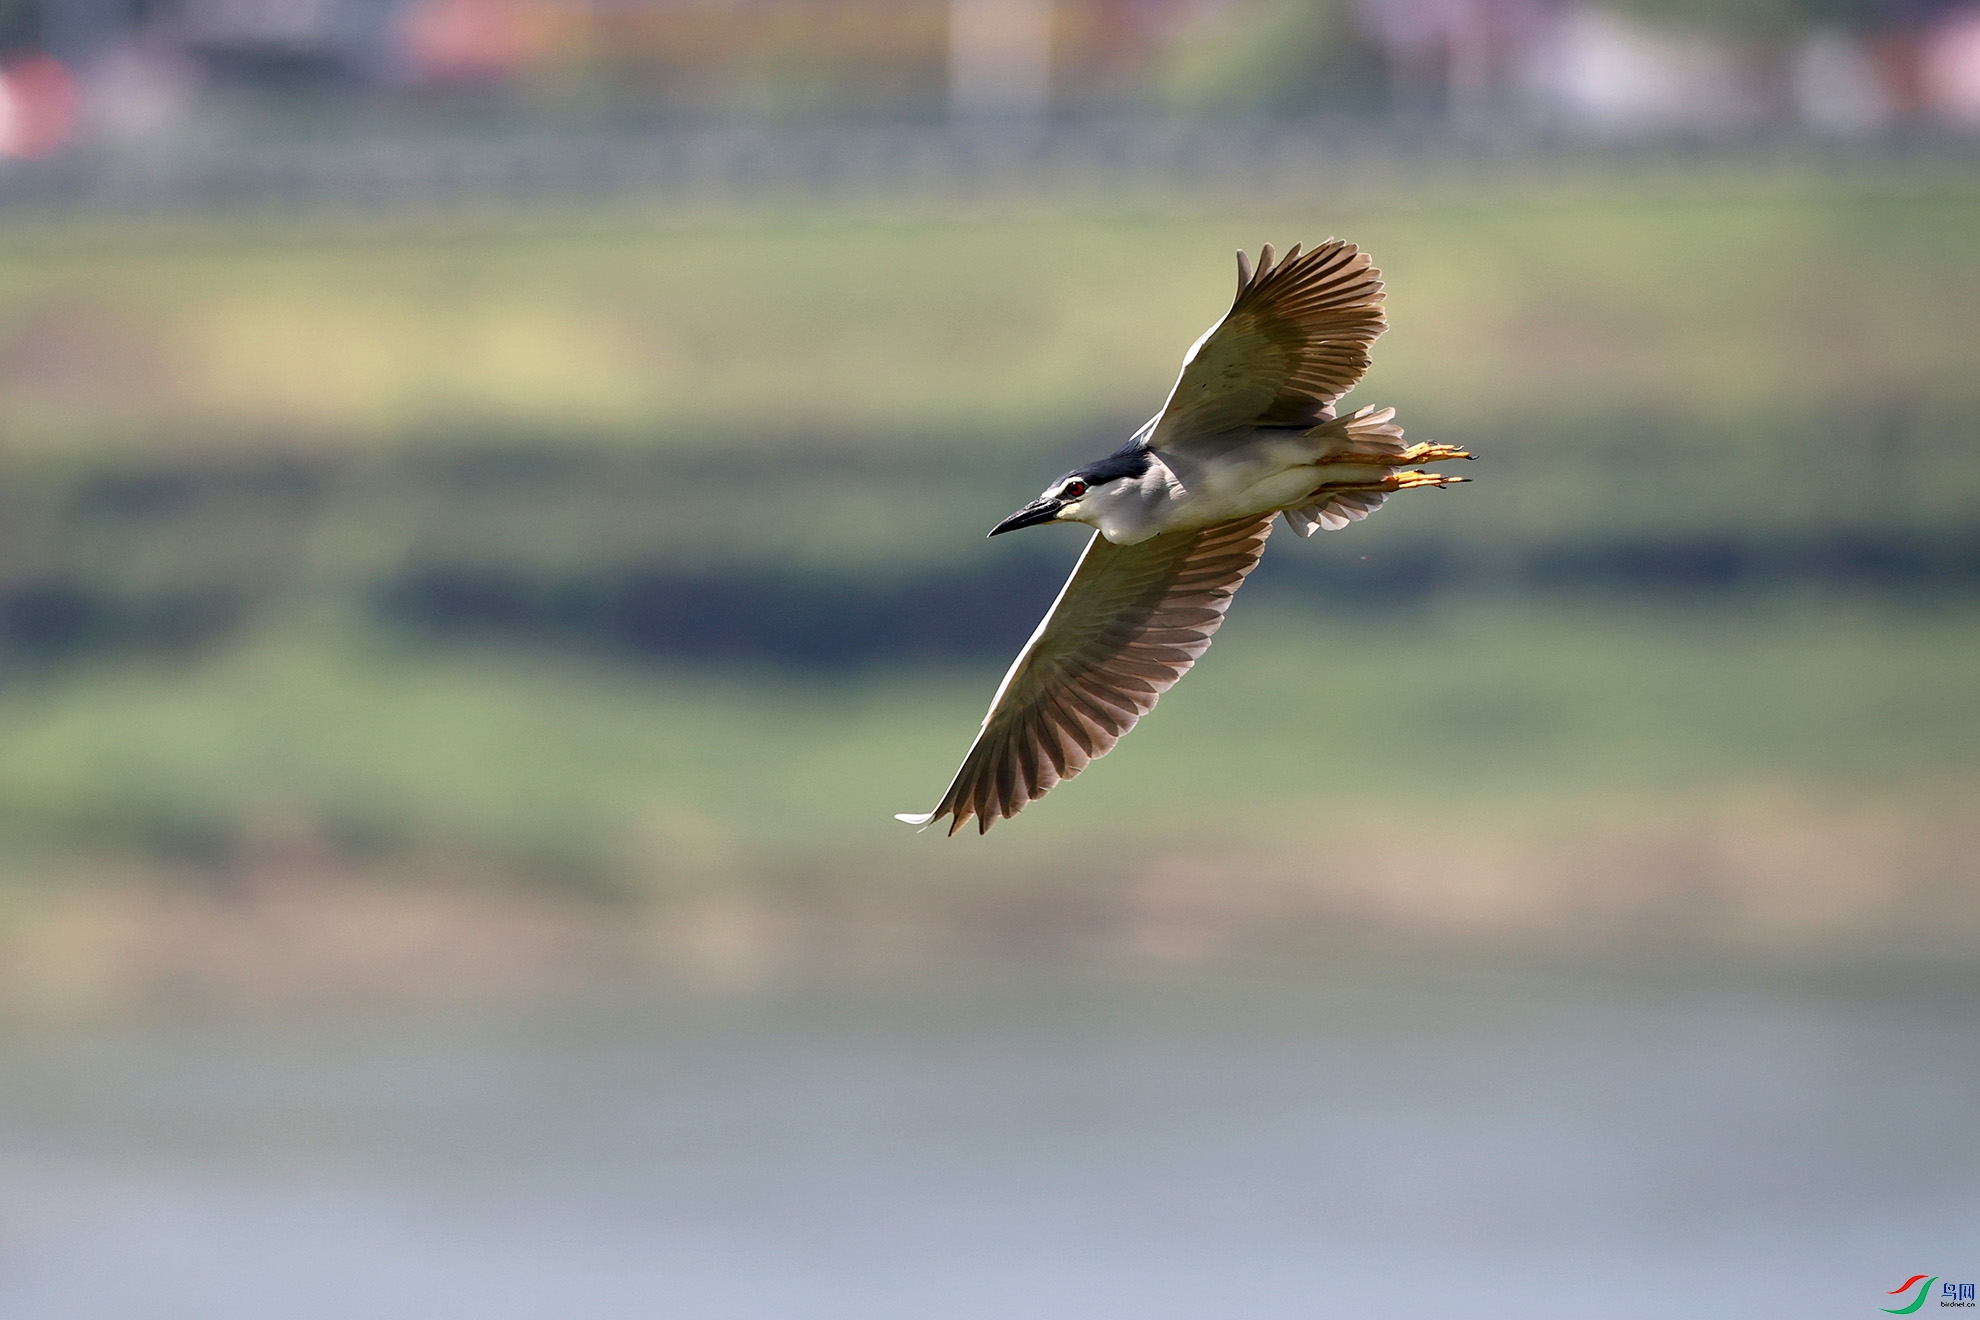bird: (881, 239, 1481, 838)
